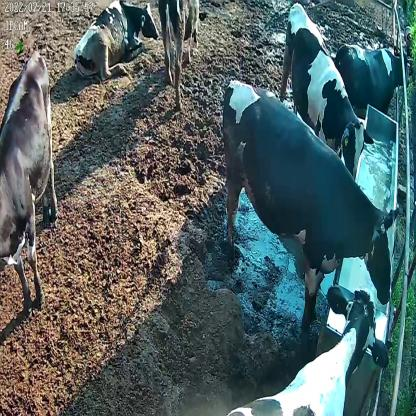cow: (222, 75, 400, 334), (224, 280, 391, 416), (281, 2, 375, 180), (0, 47, 61, 316), (75, 0, 160, 75), (335, 44, 410, 114), (158, 0, 208, 101)
